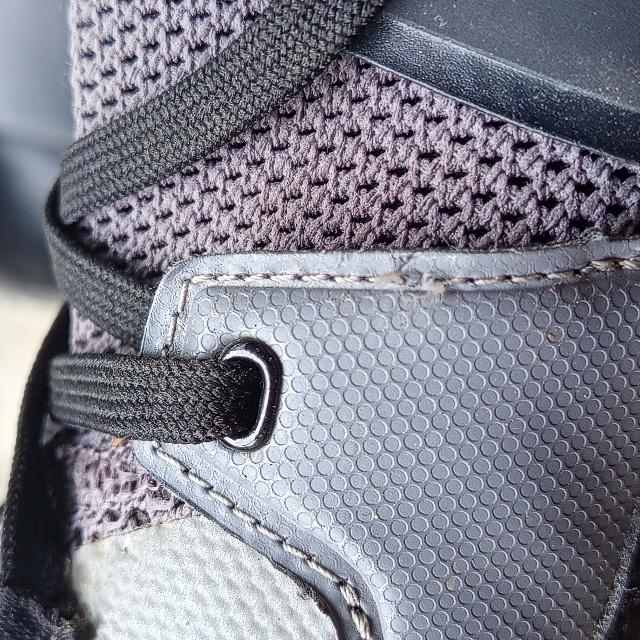broken: (377, 263, 458, 308)
